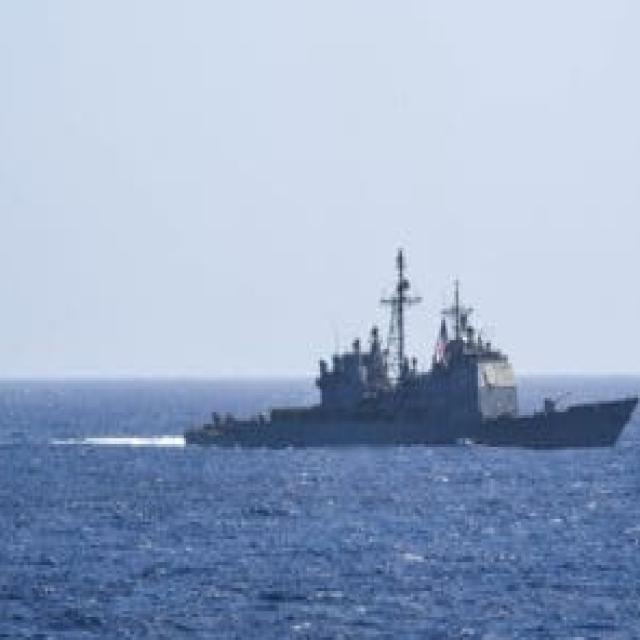navalvessels: (194, 219, 640, 470)
